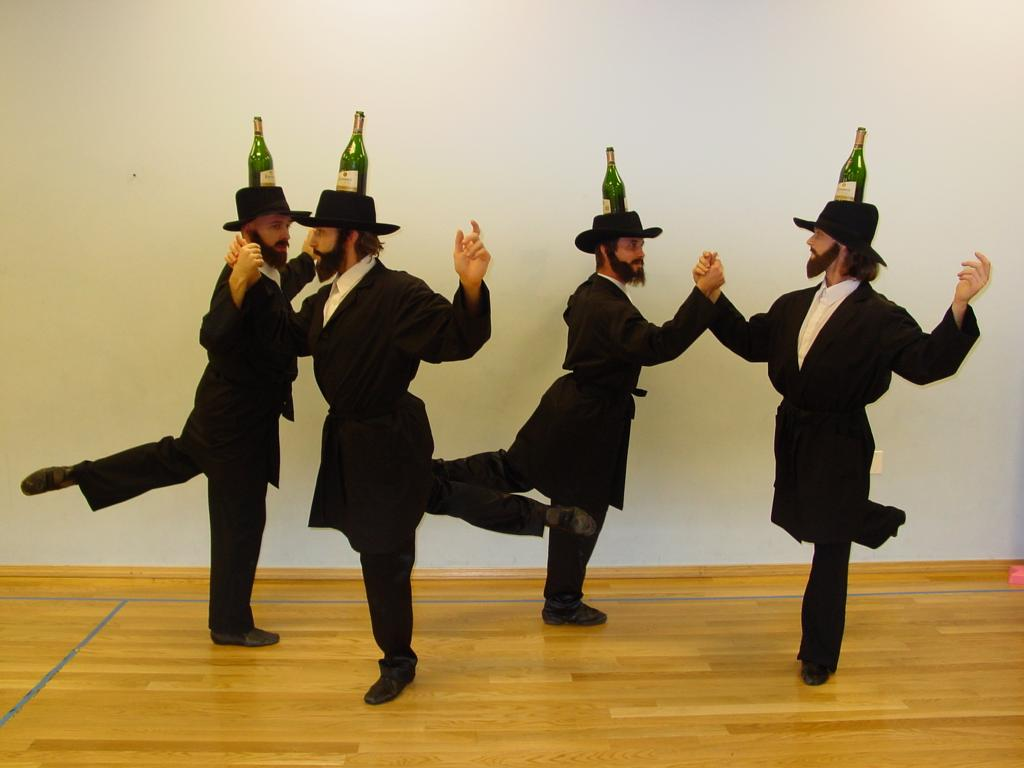face: (308, 215, 347, 273), (251, 211, 291, 261), (608, 228, 644, 277), (808, 221, 840, 267)
